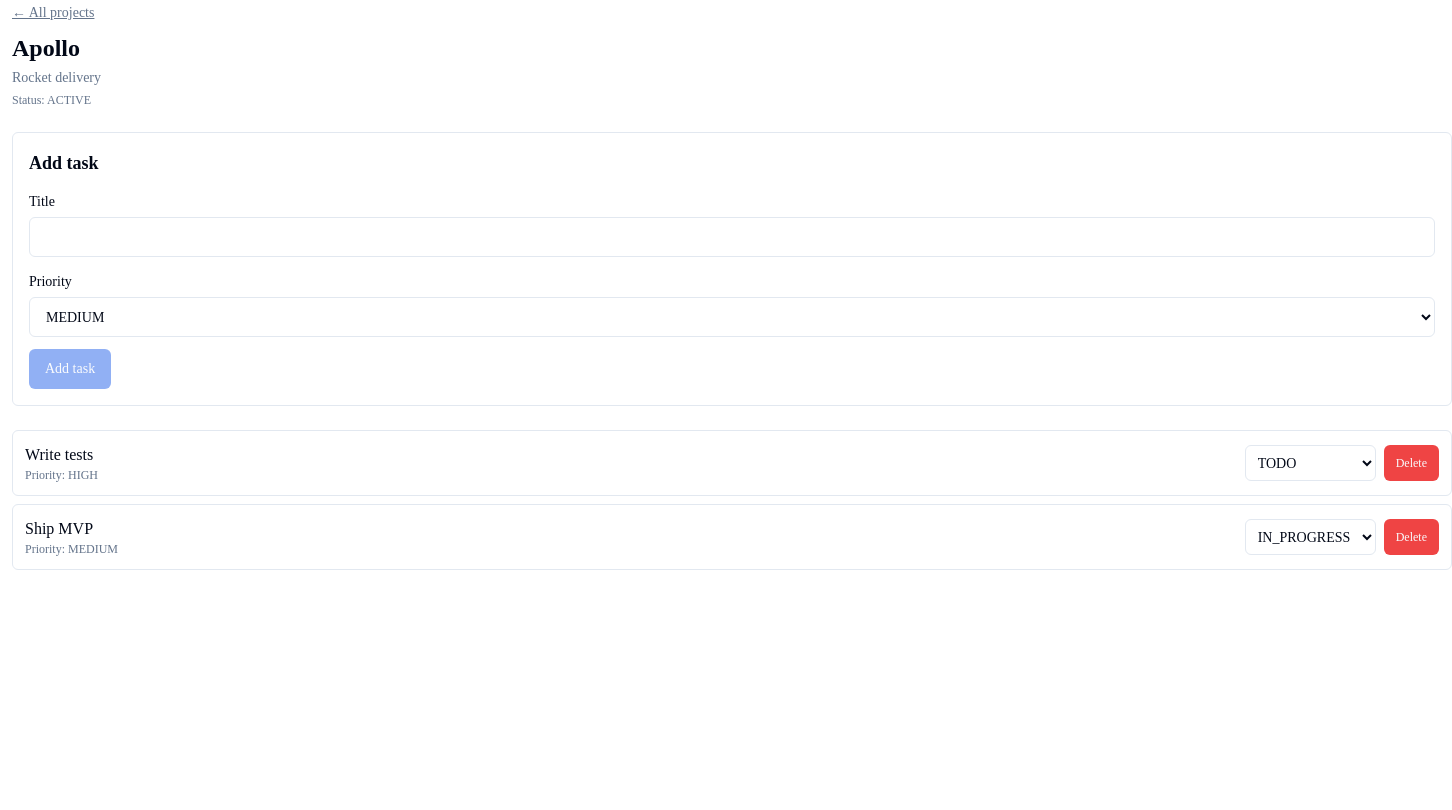
it: ProjectDetail › submits a new task via POST
Check: the number of list items with test id "project-task-row" is 2, box 12,430 -> 1451,496; 12,504 -> 1451,570
In the field with test id "project-task-title": (732, 237) 29,217 -> 1435,257, type "New task"
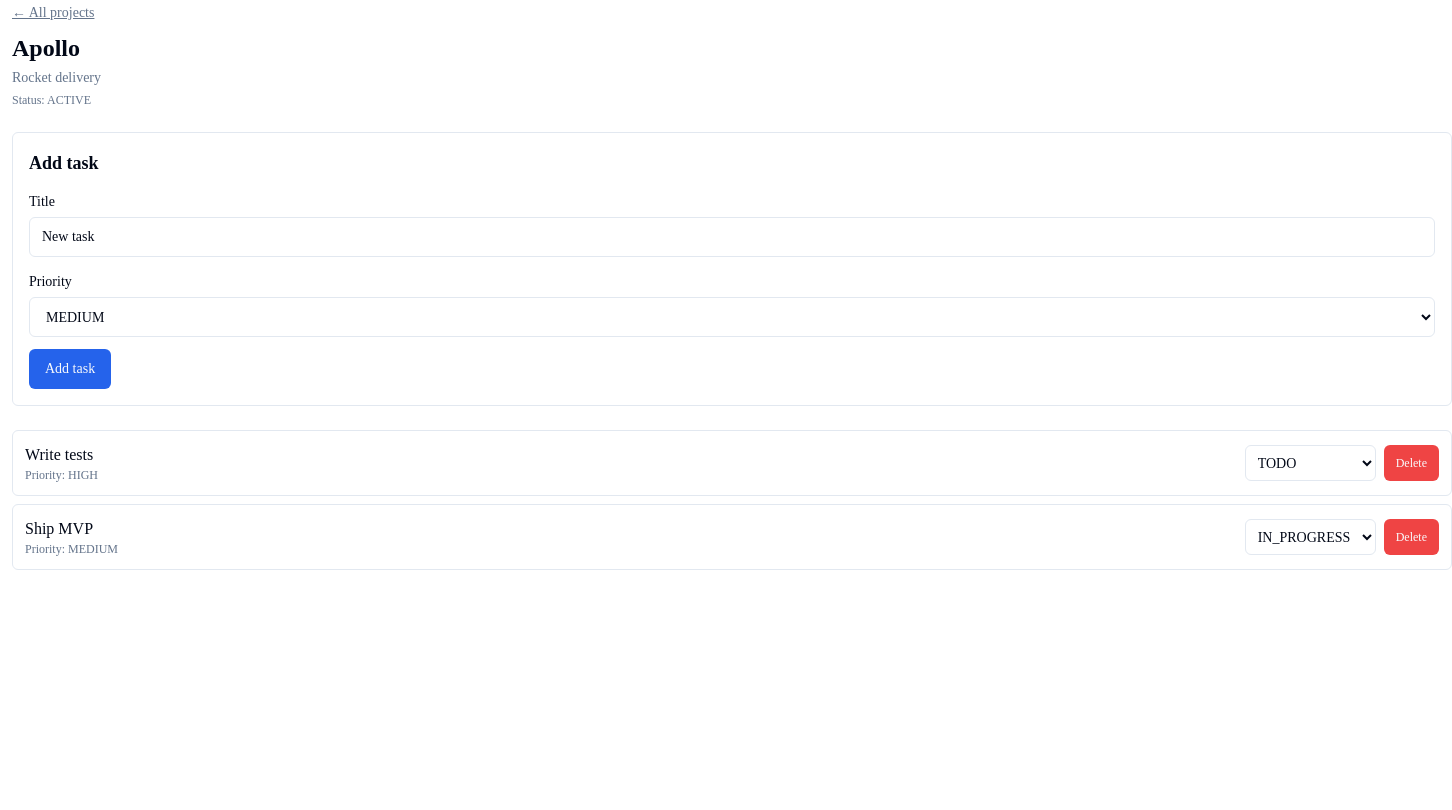
Click the button with test id "project-task-submit": (70, 369) 29,349 -> 111,389
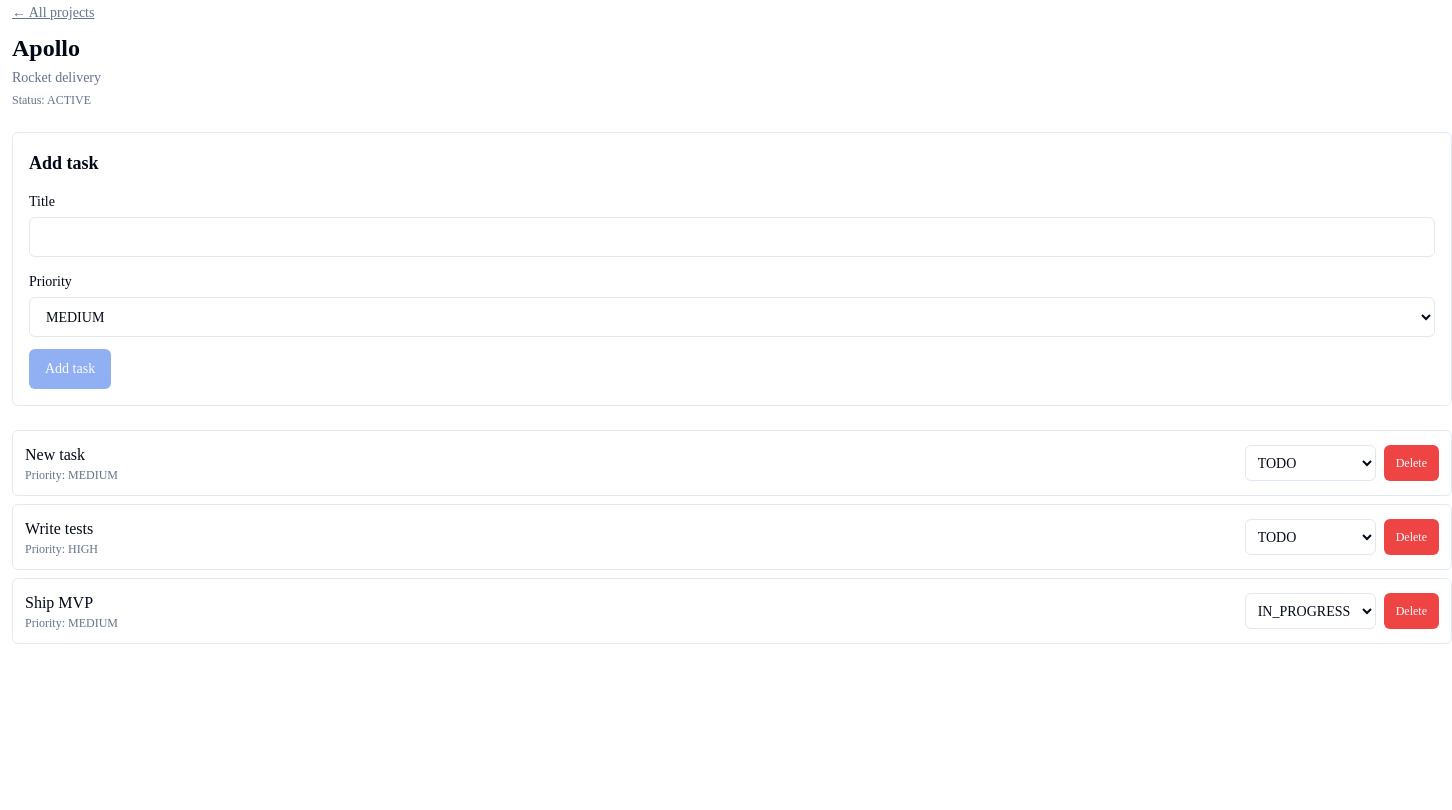
Check: the number of list items with test id "project-task-row" is 3, box 12,430 -> 1451,496; 12,504 -> 1451,570; 12,578 -> 1451,644
